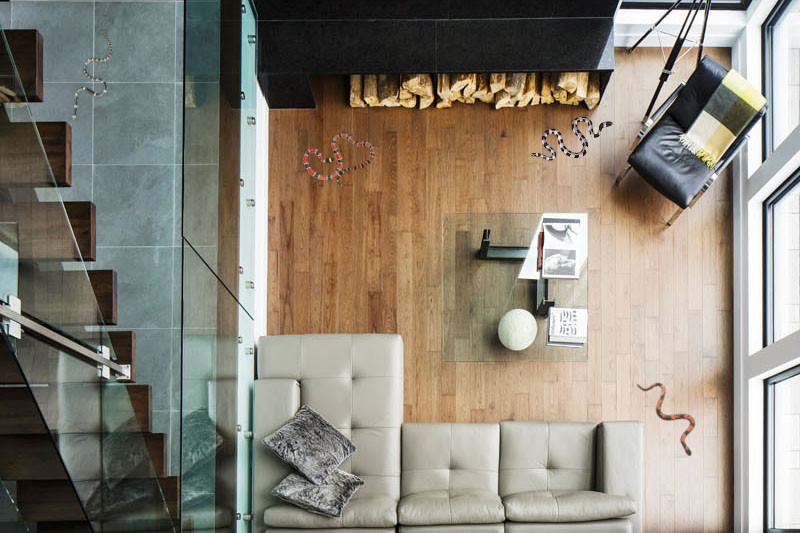snake: (634, 380, 697, 457), (528, 114, 616, 165), (70, 25, 114, 122), (302, 131, 377, 187)
